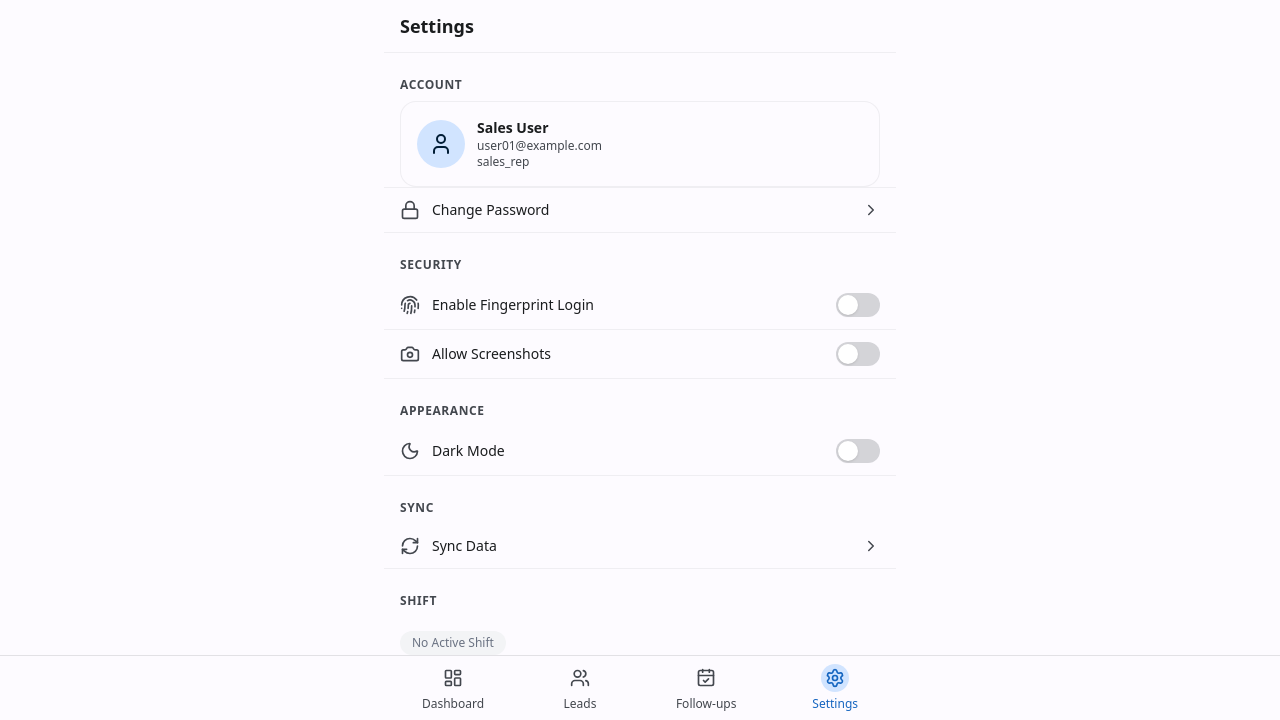
SettingsPage › shows "Fingerprint registered" snackbar when fingerprint is enabled
This screenshot has width=1280, height=720.
Step 1. Click the switch in the row of "Enable Fingerprint Login" → {"x": 858, "y": 305}, box [836,293,880,317]
Wait 1000 ms
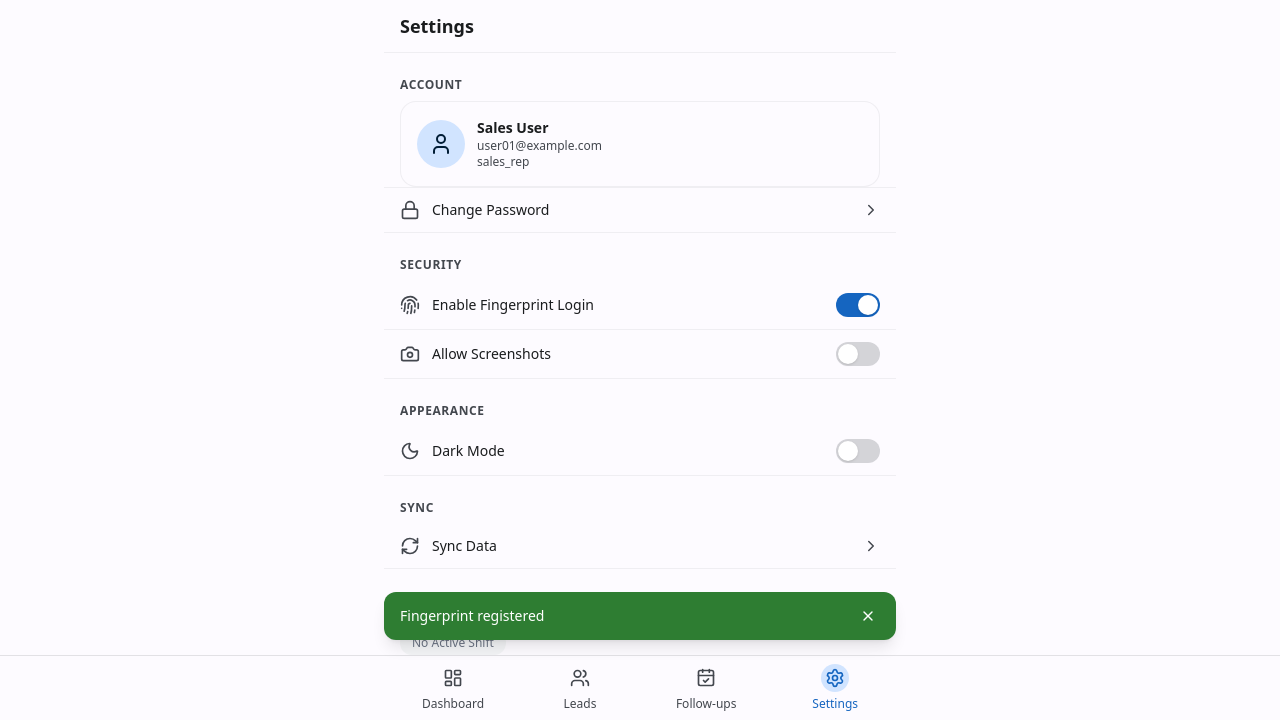
Check: the text "Fingerprint registered" is shown, box [400,606,544,626]
